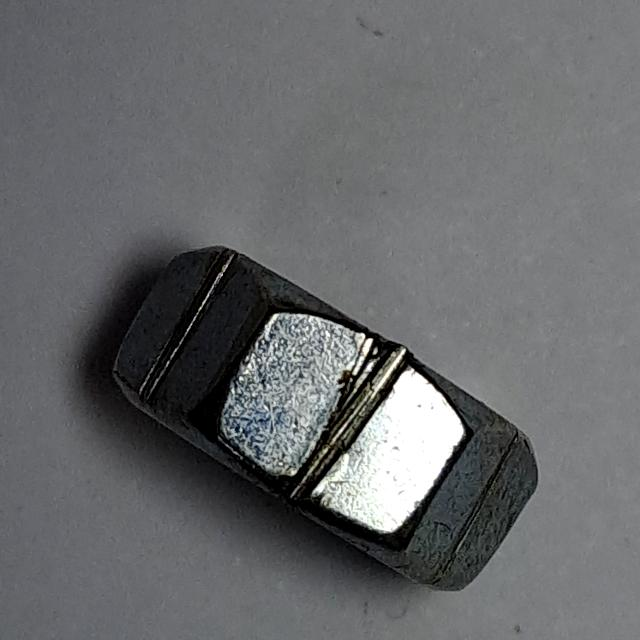Side_Scratches: (100, 239, 548, 606)
